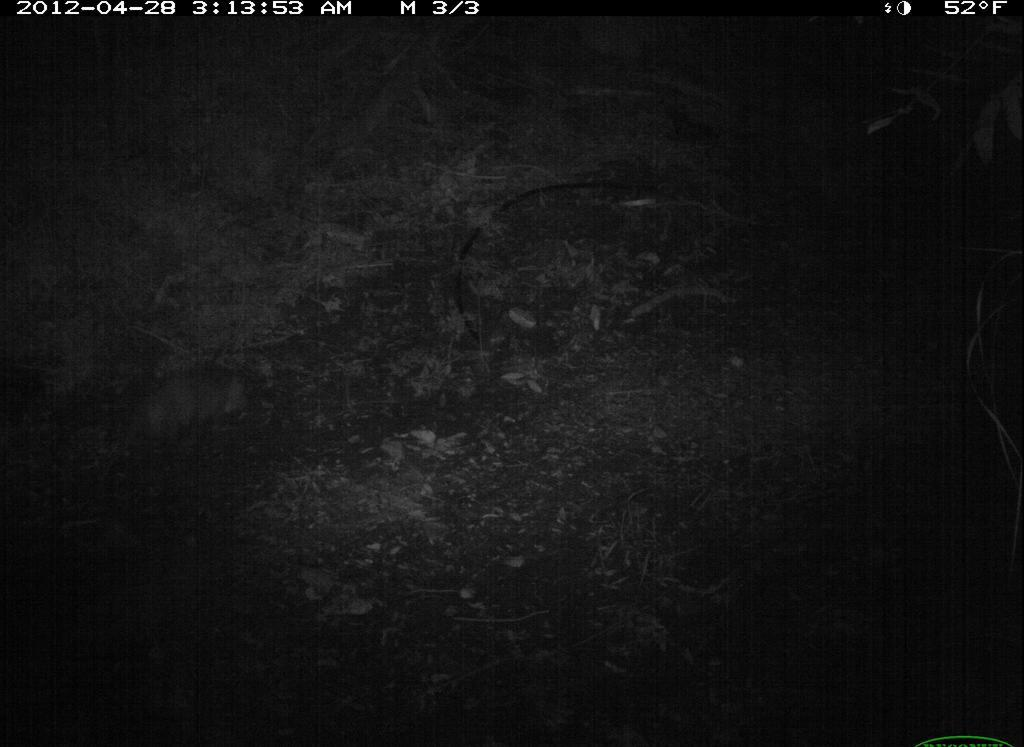opossum: (82, 347, 280, 504)
